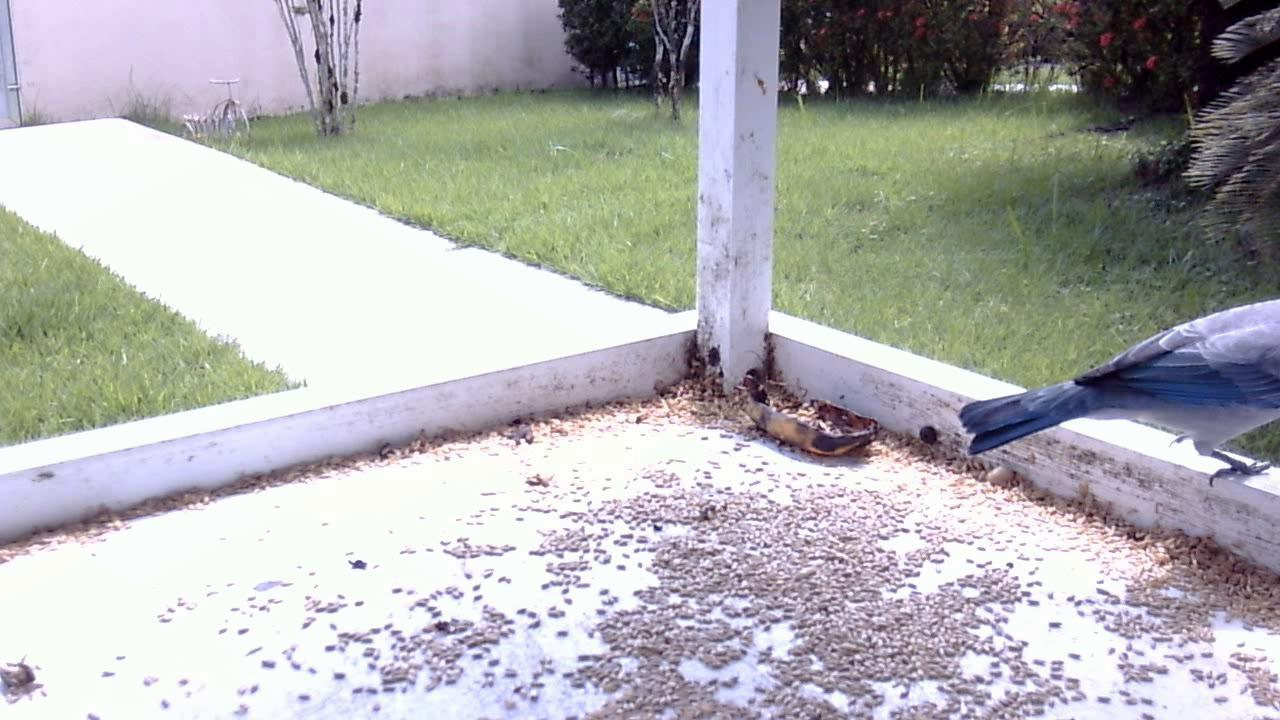sanhaco_da_amazonia: (952, 300, 1278, 505)
